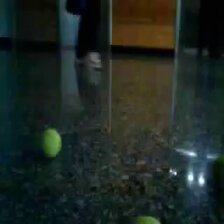tennis: (37, 129, 63, 159)
